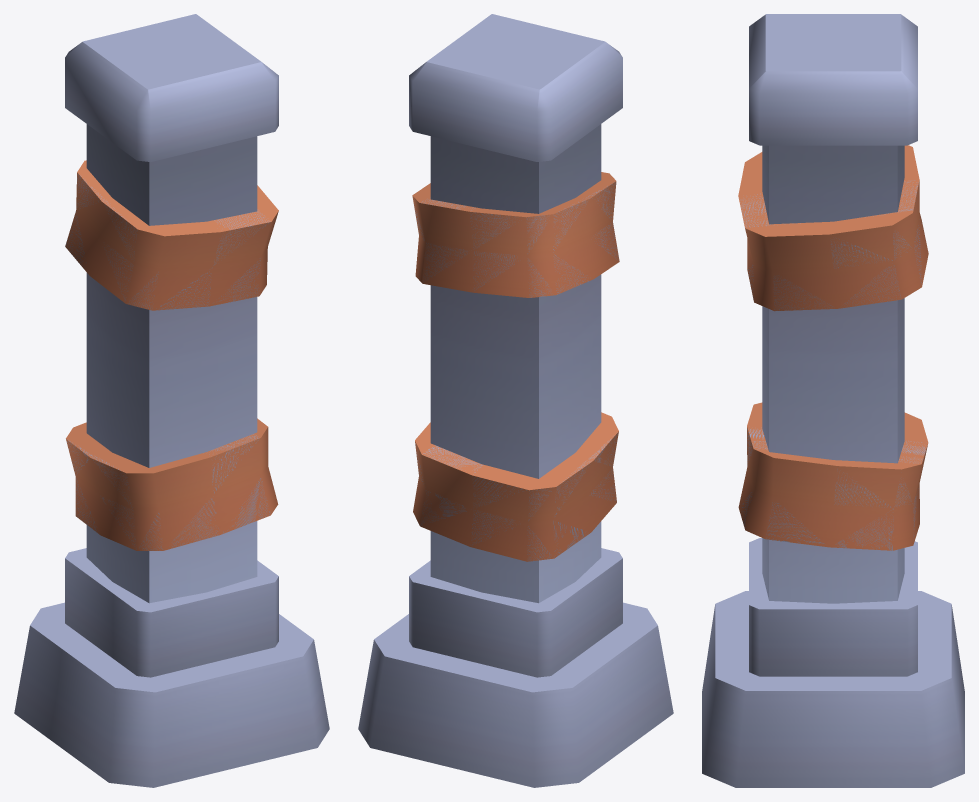
Rendered from column-large.glb.
3 views of the same model, side by side, from view 1: azimuth 30°, elevation 25°; view 2: azimuth 150°, elevation 25°; view 3: azimuth 270°, elevation 25° (orthographic). The views are drawn at different scales.
Parts seen in each view (by area): view 1: column-large; view 2: column-large; view 3: column-large.
Part boxes in pixels (x1,y1,x2,y2): column-large: [14, 14, 329, 787]; column-large: [358, 14, 673, 787]; column-large: [702, 14, 964, 787].
Size of the model in its own units: 0.39 by 1.13 by 0.39.
1 material, 1 textured.
